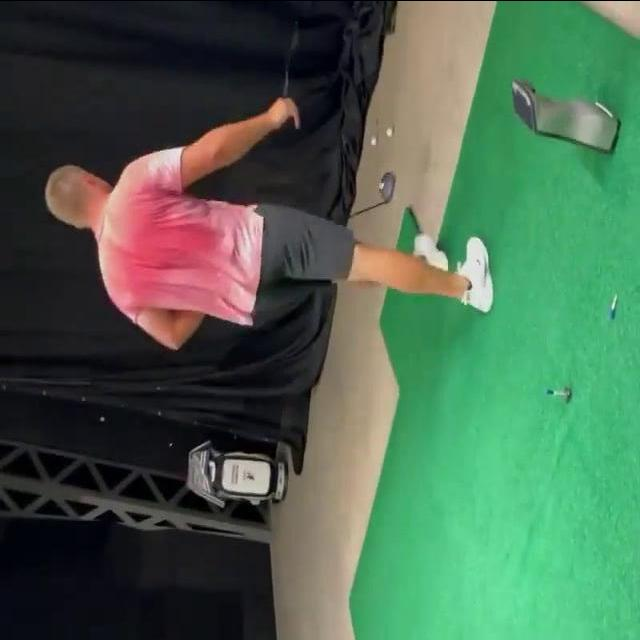ClubHandle: (335, 171, 397, 222)
ClubHead: (380, 171, 397, 199)
GolfBall: (370, 136, 378, 146), (387, 127, 393, 136)
